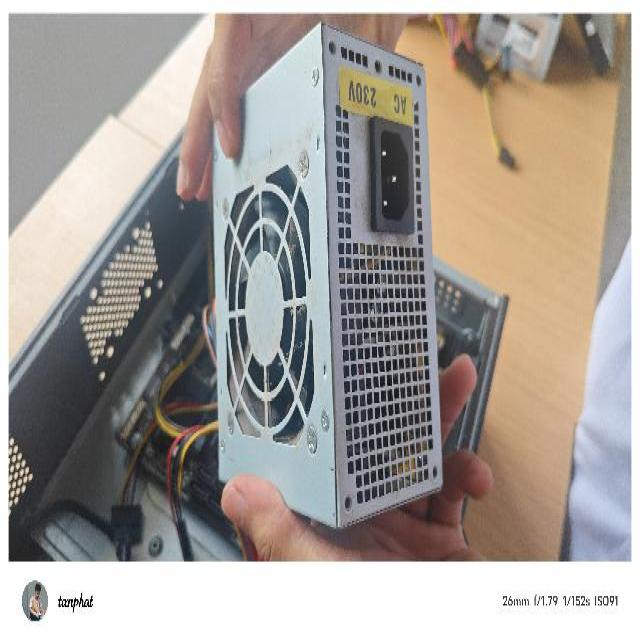PSU: (164, 18, 452, 534)
